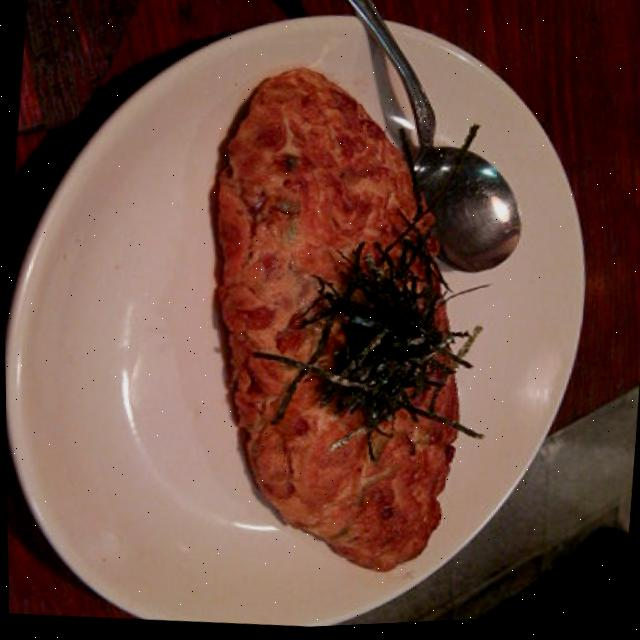鸡蛋料理: (162, 50, 546, 614)
